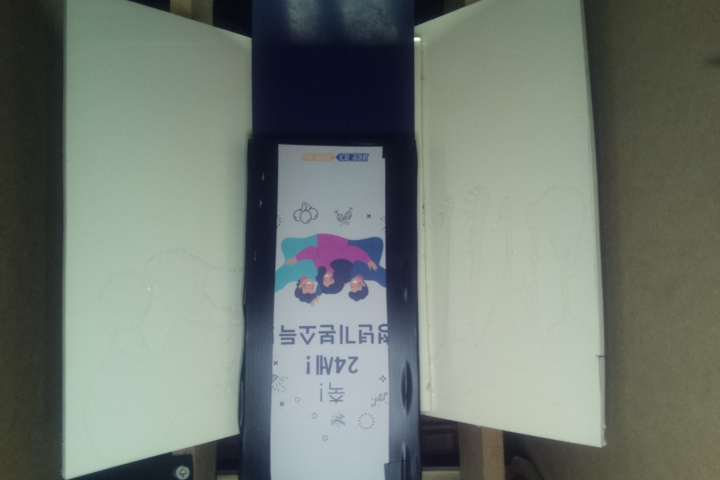book: (246, 136, 421, 480)
